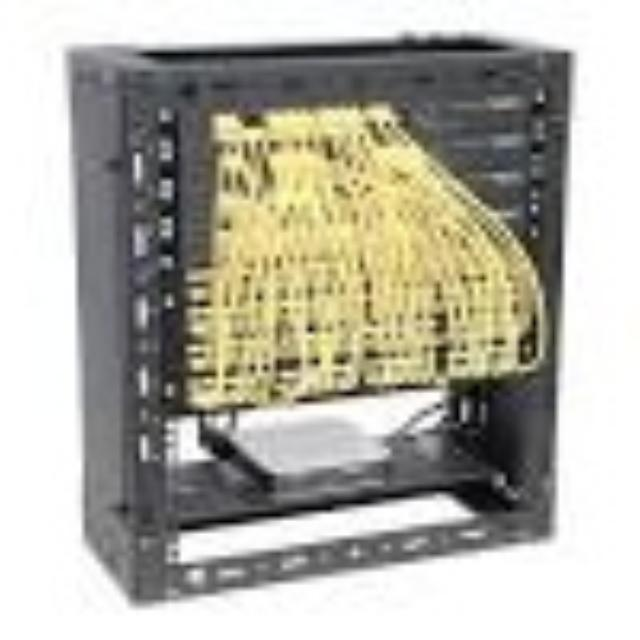Server: (67, 24, 579, 606)
